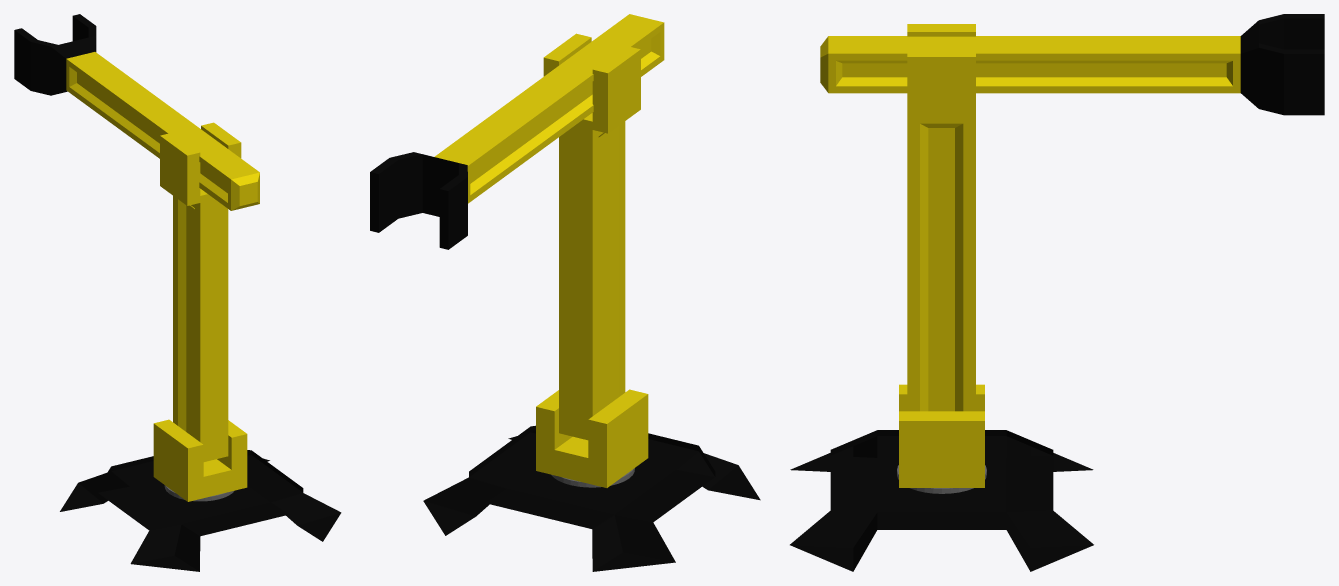
Rendered from Arm.fbx.
The picture shows the model from 3 angles, left to right: view 1: azimuth 30°, elevation 25°; view 2: azimuth 150°, elevation 25°; view 3: azimuth 270°, elevation 25°; orthographic projection. The views are drawn at different scales.
Visible parts, largest first — view 1: Arm1, Platform, Arm2, Osnova, Arm2.001; view 2: Arm1, Platform, Arm2, Osnova, Arm2.001; view 3: Arm1, Platform, Arm2, Arm2.001, Osnova.
Boxes of the visible parts, x1,y1,x2,y2 form: Arm1: [160, 122, 241, 461]; Platform: [60, 450, 341, 571]; Arm2: [66, 52, 259, 210]; Osnova: [153, 419, 247, 501]; Arm2.001: [14, 14, 96, 95]; Arm1: [543, 33, 640, 440]; Platform: [423, 425, 760, 571]; Arm2: [434, 14, 664, 203]; Osnova: [536, 389, 648, 487]; Arm2.001: [370, 152, 467, 249]; Arm1: [907, 24, 975, 411]; Platform: [790, 430, 1093, 571]; Arm2: [820, 36, 1240, 93]; Arm2.001: [1240, 14, 1324, 115]; Osnova: [899, 384, 984, 487].
Size of the model in its own units: 411 by 709 by 722.
